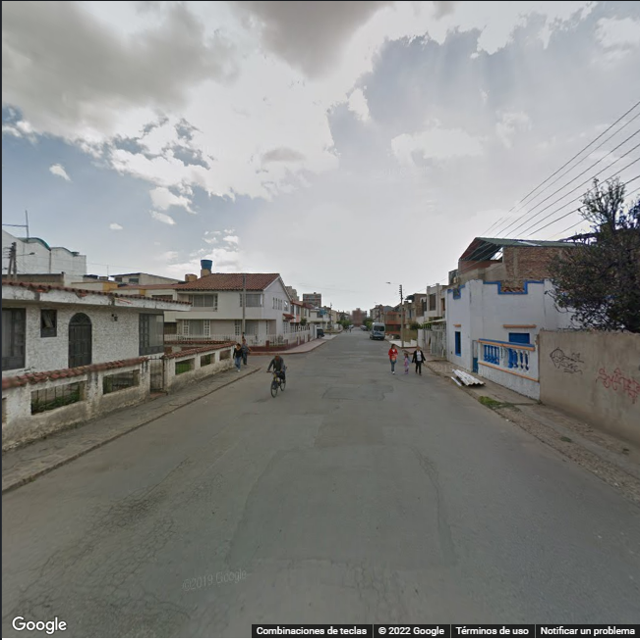D00: (6, 546, 57, 616)
D20: (100, 516, 170, 620), (82, 489, 160, 545), (353, 557, 411, 624)
